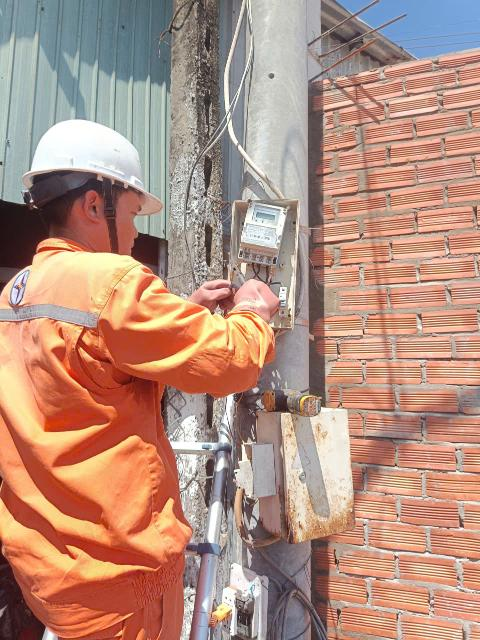gloves: (233, 270, 297, 333), (174, 272, 237, 318)
helmet: (24, 121, 168, 215)
